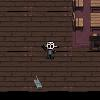Hide: (87, 32, 100, 50)
Jason: (40, 40, 58, 59)
Obstacle: (68, 11, 87, 32), (87, 11, 100, 32), (68, 0, 87, 11), (87, 0, 100, 11)
Win: (28, 75, 48, 92)
